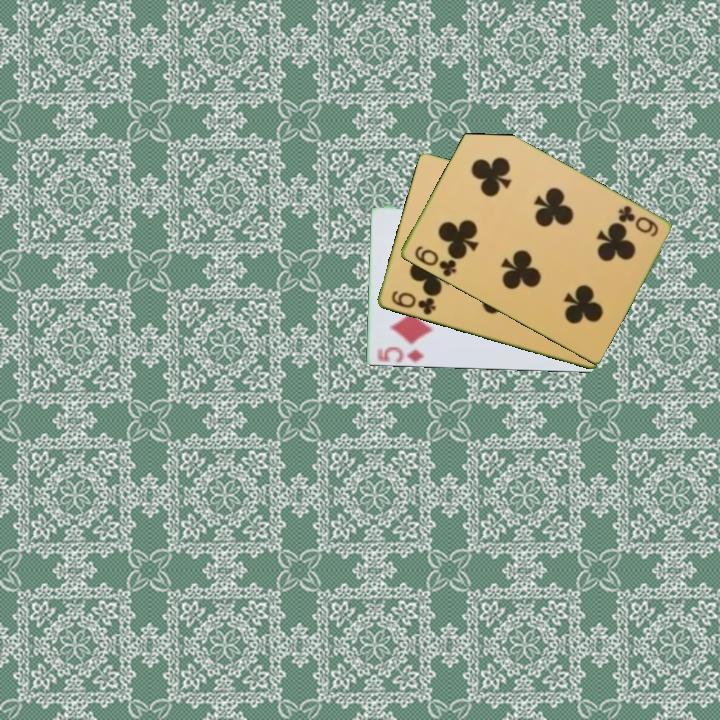5d: (372, 343, 427, 365)
6c: (410, 242, 459, 280), (614, 202, 661, 240), (387, 287, 438, 318)
